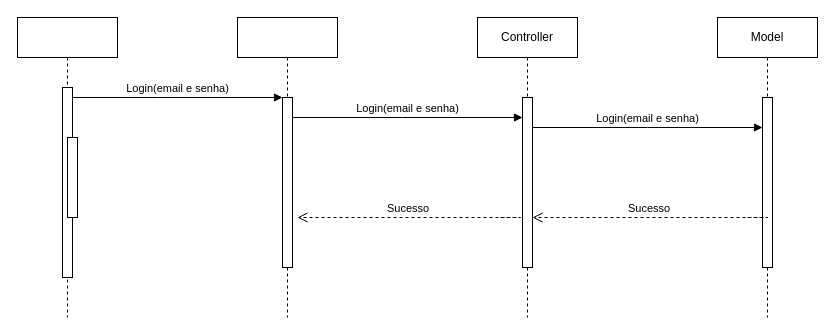
Image size: 835x335. Some labels were removed from this diagram. Here are the shapes that lost their labels. From the top down, the box of each, then its label:
(16, 16, 118, 318): Cliente
(236, 16, 338, 318): View
